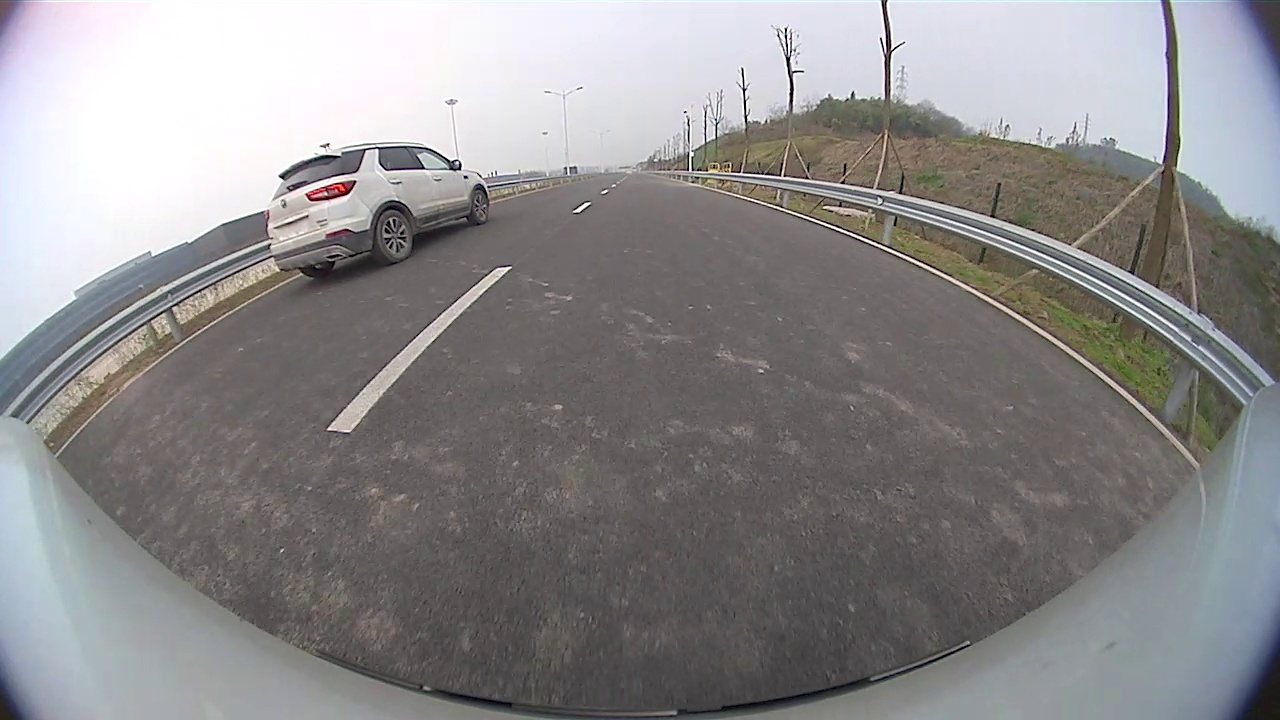car: (263, 136, 495, 281)
front: (471, 190, 491, 225)
rear: (375, 209, 414, 267)
